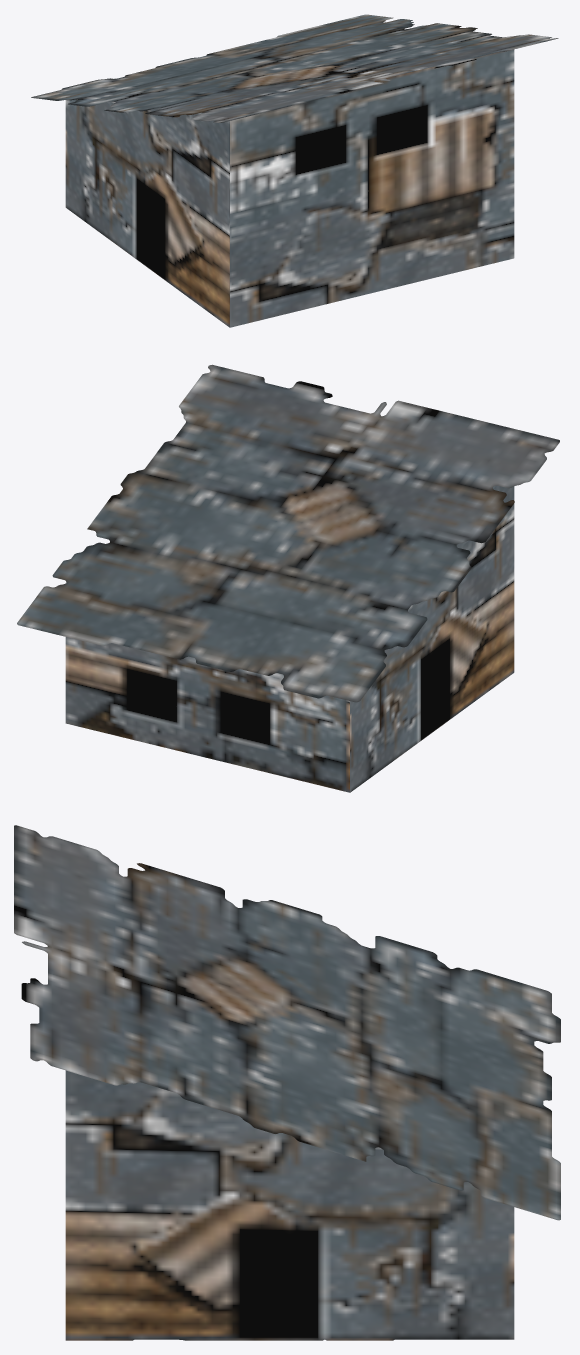
The model's file is crashshanty1.glb.
The picture shows the model from 3 angles, top to bottom: view 1: azimuth 30°, elevation 25°; view 2: azimuth 150°, elevation 25°; view 3: azimuth 270°, elevation 25°; orthographic projection. The views are drawn at different scales.
Parts seen in each view (by area): view 1: CrashShanty1; view 2: CrashShanty1; view 3: CrashShanty1.
Part boxes in pixels (box(x1,y1,x2,y2)): CrashShanty1: box(31, 14, 558, 327); CrashShanty1: box(17, 364, 559, 792); CrashShanty1: box(14, 825, 560, 1340).
Bounding box in the file's own units: 6.98 × 4.29 × 6.98.
Materials: 1 (1 with a texture image).
